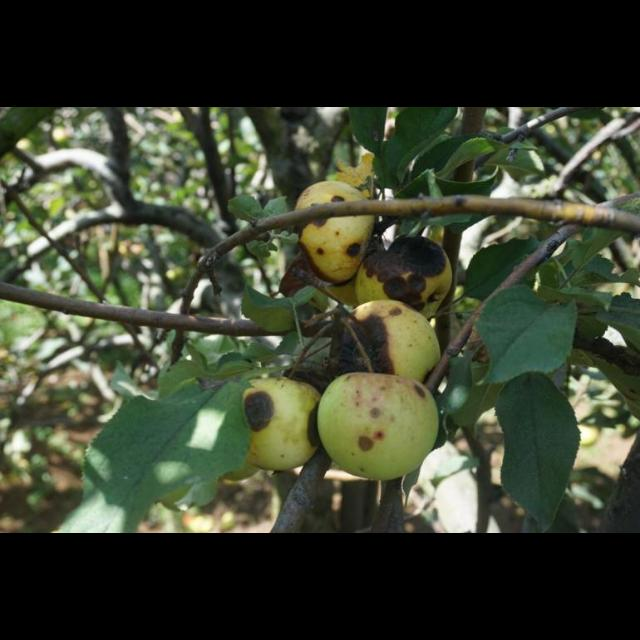Apel Tidak Segar: (314, 354, 454, 494), (217, 365, 331, 493), (352, 230, 481, 336), (338, 289, 460, 396)
